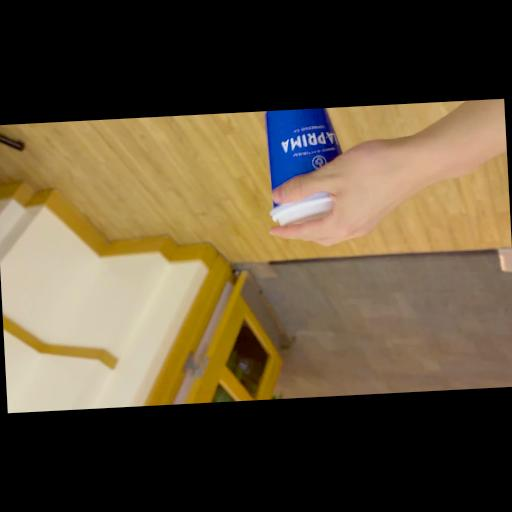lp_paper_cup: (248, 107, 363, 232)
